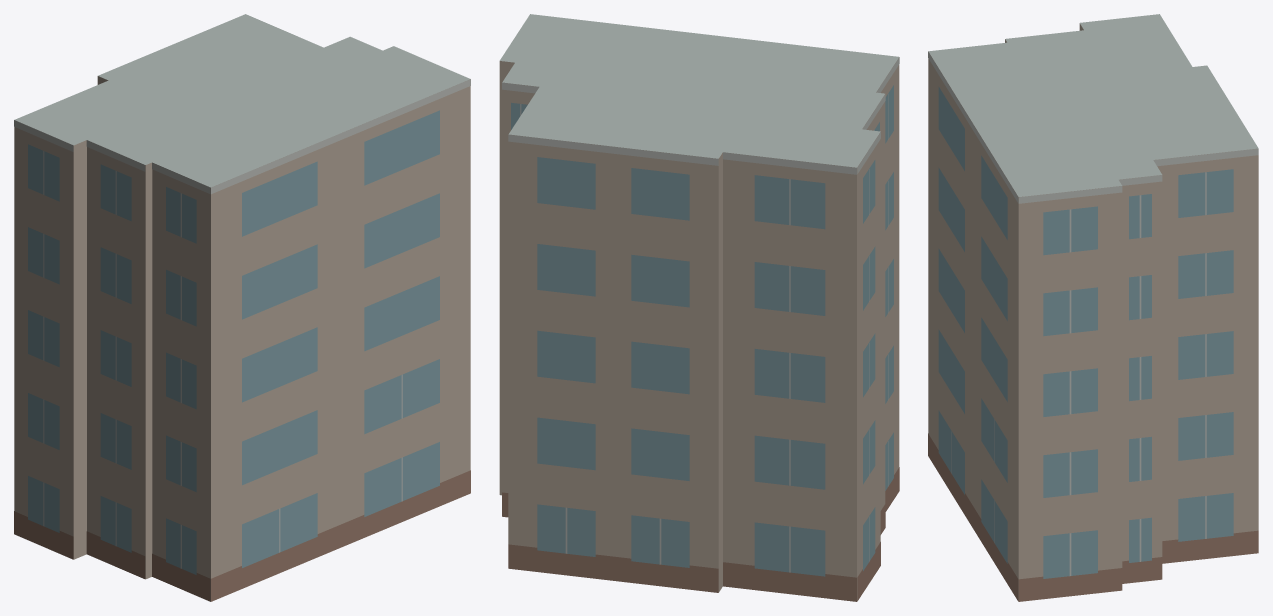
The model's file is survey-upis-32906089.glb.
3 views of the same model, side by side, from view 1: azimuth 30°, elevation 25°; view 2: azimuth 150°, elevation 25°; view 3: azimuth 270°, elevation 25° (orthographic). The views are drawn at different scales.
Visible parts, largest first — view 1: survey-upis-32906089.tmp; view 2: survey-upis-32906089.tmp; view 3: survey-upis-32906089.tmp.
Part boxes in pixels (x1,y1,x2,y2): survey-upis-32906089.tmp: [14, 14, 470, 601]; survey-upis-32906089.tmp: [499, 14, 899, 601]; survey-upis-32906089.tmp: [928, 14, 1258, 601].
Size of the model in its own units: 14.37 by 14.8 by 10.96.
